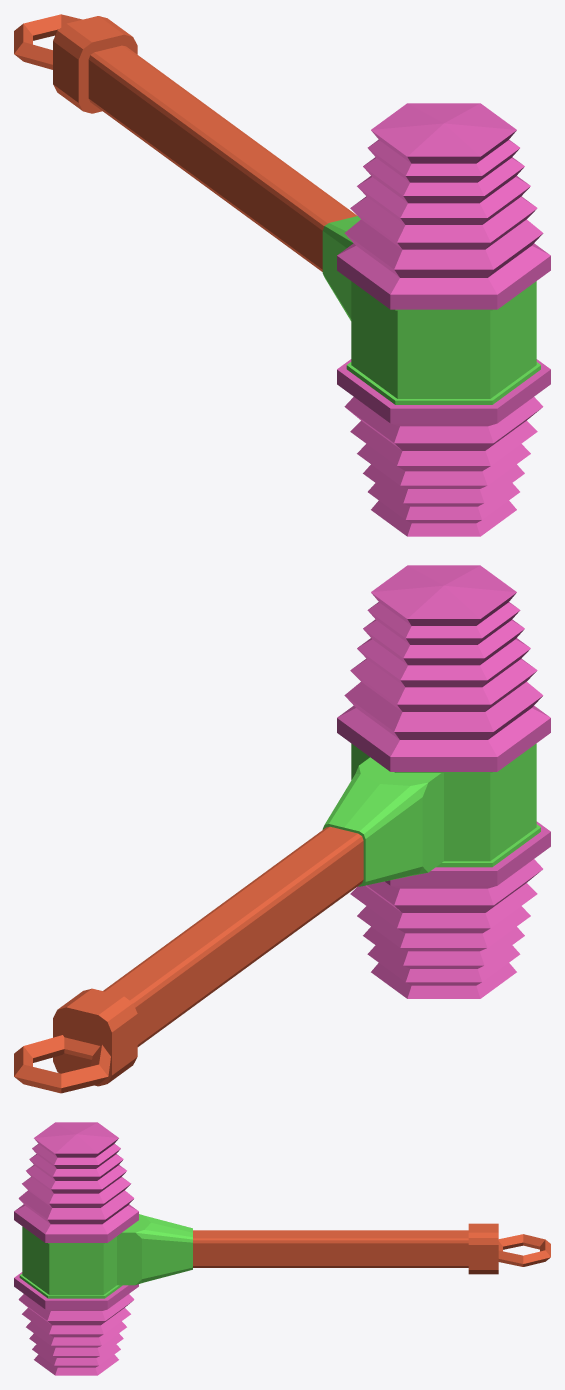
File: hammer2.fbx
3 views of the same model, one above another, from view 1: azimuth 30°, elevation 25°; view 2: azimuth 150°, elevation 25°; view 3: azimuth 270°, elevation 25° (orthographic). The views are drawn at different scales.
Visible parts, largest first — view 1: hammer2; view 2: hammer2; view 3: hammer2.
Boxes of the visible parts, box(x1,y1,x2,y2) form: hammer2: box(14, 14, 550, 536); hammer2: box(14, 565, 550, 1093); hammer2: box(14, 1122, 550, 1375).
Bounding box in the file's own units: 253 × 592 × 1256.
